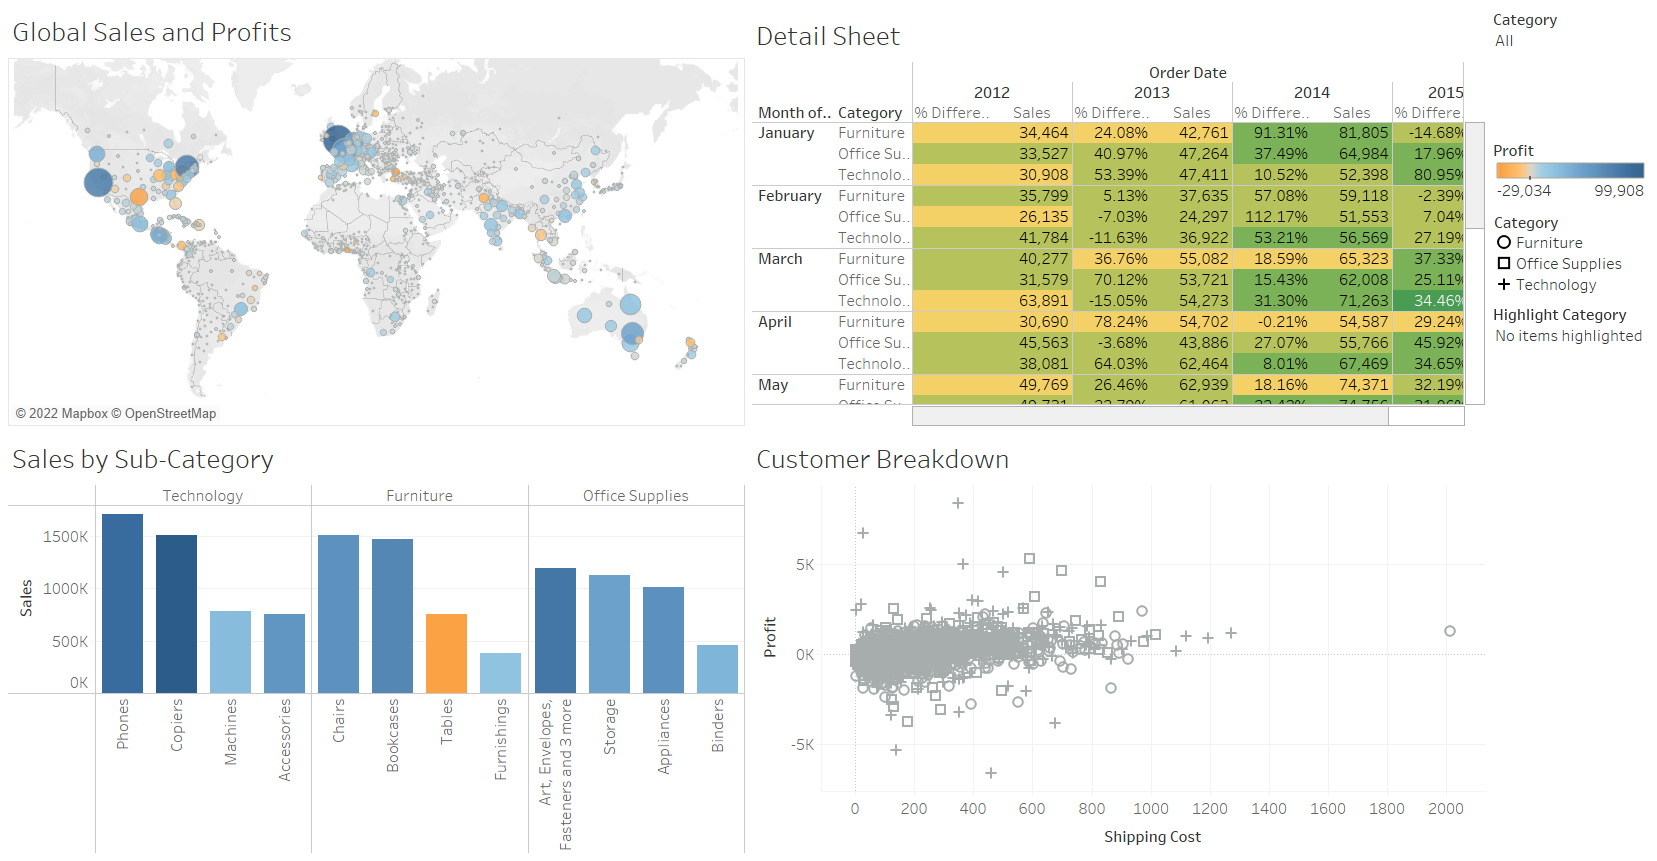

This screenshot's page, from the dashboard's own definition file:
{"tool":"tableau","page":{"name":"Sales Dashboard","canvas":[1000,1000],"units":"permille","ordinal":0},"visuals":[{"type":"worksheet","title":"Global Sales and Profits","mark":"Automatic","box":[4.8,9.3,446.9,490.7]},{"type":"worksheet","title":"Crosstab","mark":"Square","rows":["Order Date","Category"],"cols":["Order Date"],"box":[451.7,9.3,446.9,490.7]},{"type":"filter","title":"Global Sales and Profits","param":"[federated.1cp0klp0i3nnha12jkc511sesuyx].[none:Category:nk]","box":[898.6,9.3,96.6,144]},{"type":"legend","title":"Global Sales and Profits","param":"[federated.1cp0klp0i3nnha12jkc511sesuyx].[sum:Profit:qk]","box":[898.6,153.3,96.6,84.8]},{"type":"legend","title":"Customer Breakdown","param":"[federated.1cp0klp0i3nnha12jkc511sesuyx].[none:Category:nk]","box":[898.6,238.1,96.6,108]},{"type":"highlighter","title":"Crosstab","param":"[federated.1cp0klp0i3nnha12jkc511sesuyx].[none:Category:nk]","box":[898.6,346.1,96.6,65]},{"type":"worksheet","title":"Sales by Sub-Category","mark":"Automatic","rows":["Sales"],"cols":["Category"],"box":[4.8,500,446.9,490.7]},{"type":"worksheet","title":"Customer Breakdown","mark":"Automatic","rows":["Profit"],"cols":["Shipping Cost"],"box":[451.7,500,446.9,490.7]}]}

Visuals, with their boxes on the dashboard's canvas, which has no fixed pixel size, in thousandths of its width and height (x1, y1, x2, y2). These are canvas units, not pixel positions in the 1657x861 screenshot, which may show the page scaled, cropped or inside an application window:
"Global Sales and Profits" worksheet: rect(5, 9, 452, 500)
"Crosstab" worksheet (Square marks): rect(452, 9, 899, 500)
"Global Sales and Profits" filter: rect(899, 9, 995, 153)
"Global Sales and Profits" legend: rect(899, 153, 995, 238)
"Customer Breakdown" legend: rect(899, 238, 995, 346)
"Crosstab" highlighter: rect(899, 346, 995, 411)
"Sales by Sub-Category" worksheet: rect(5, 500, 452, 991)
"Customer Breakdown" worksheet: rect(452, 500, 899, 991)
